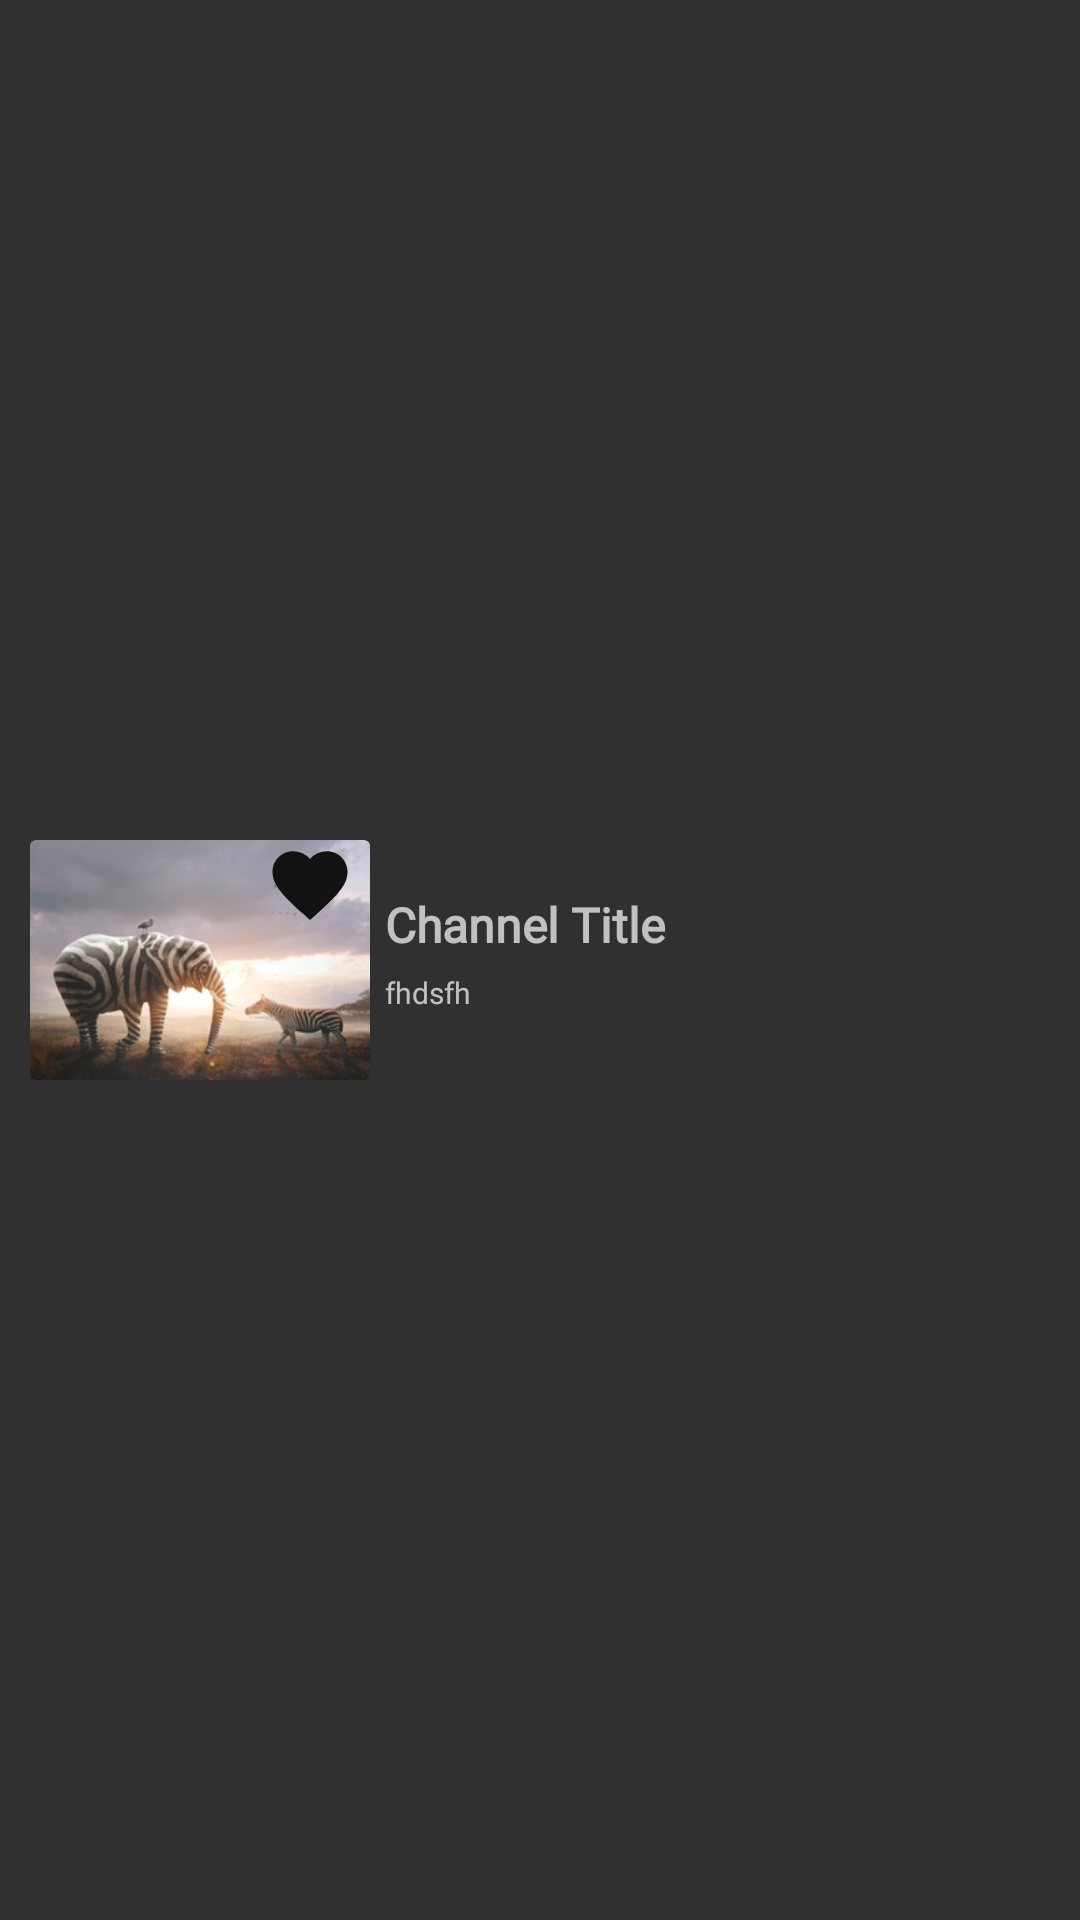

Point at icon controls on the screen. Image size 1080px x 1920px, points as (x,y).
favorite: (310,885)
